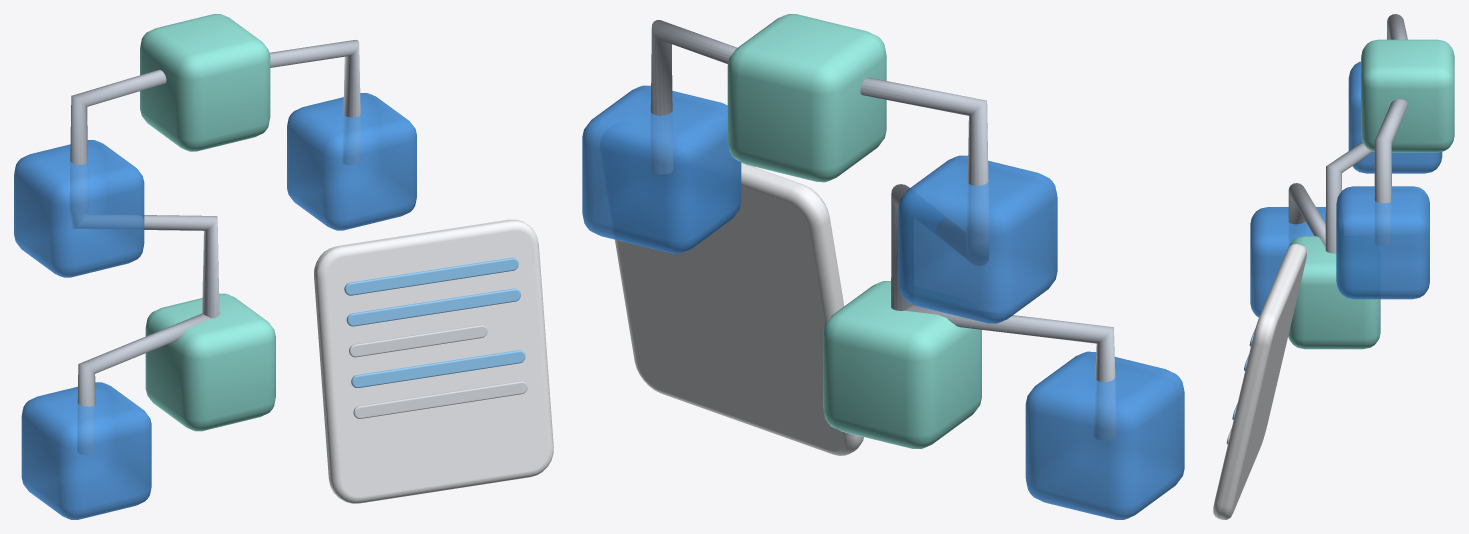
File: module-03.glb
3 views of the same model, side by side, from view 1: azimuth 30°, elevation 25°; view 2: azimuth 150°, elevation 25°; view 3: azimuth 270°, elevation 25° (orthographic). The views are drawn at different scales.
Visible parts, largest first — view 1: outline_slab_paper, node0, node4, PROP_node, node2, node3, link03, link34, link01, link12, outline_slab_line0, outline_slab_line1 (+3 smaller); view 2: outline_slab_paper, PROP_node, node4, node0, node2, node3, link01, link34, link12, link03; view 3: node2, PROP_node, outline_slab_paper, node3, node4, link12, node0, link03, link34, link01.
Part boxes in pixels (left/top/right/bottom): outline_slab_paper: left=314, top=219, right=553, bottom=503; node0: left=14, top=140, right=144, bottom=277; node4: left=21, top=382, right=151, bottom=519; PROP_node: left=140, top=14, right=270, bottom=151; node2: left=287, top=93, right=416, bottom=230; node3: left=145, top=293, right=275, bottom=431; link03: left=70, top=211, right=219, bottom=318; link34: left=77, top=313, right=211, bottom=454; link01: left=70, top=69, right=166, bottom=212; link12: left=269, top=40, right=361, bottom=165; outline_slab_line0: left=344, top=257, right=518, bottom=295; outline_slab_line1: left=346, top=288, right=520, bottom=326; outline_slab_paper: left=615, top=162, right=863, bottom=455; PROP_node: left=727, top=14, right=886, bottom=182; node4: left=1025, top=351, right=1184, bottom=519; node0: left=898, top=155, right=1057, bottom=323; node2: left=582, top=85, right=741, bottom=253; node3: left=823, top=281, right=981, bottom=448; link01: left=860, top=77, right=989, bottom=244; link34: left=905, top=304, right=1116, bottom=440; link12: left=650, top=20, right=736, bottom=174; link03: left=891, top=184, right=989, bottom=310; node2: left=1336, top=186, right=1429, bottom=299; PROP_node: left=1361, top=39, right=1454, bottom=152; outline_slab_paper: left=1213, top=244, right=1306, bottom=519; node3: left=1288, top=236, right=1380, bottom=349; node4: left=1250, top=207, right=1325, bottom=317; link12: left=1374, top=99, right=1407, bottom=245; node0: left=1348, top=61, right=1442, bottom=173; link03: left=1325, top=142, right=1373, bottom=253; link34: left=1288, top=183, right=1325, bottom=246; link01: left=1387, top=14, right=1407, bottom=39.
Size of the model in its own units: 1.97 by 1.66 by 0.9801.
